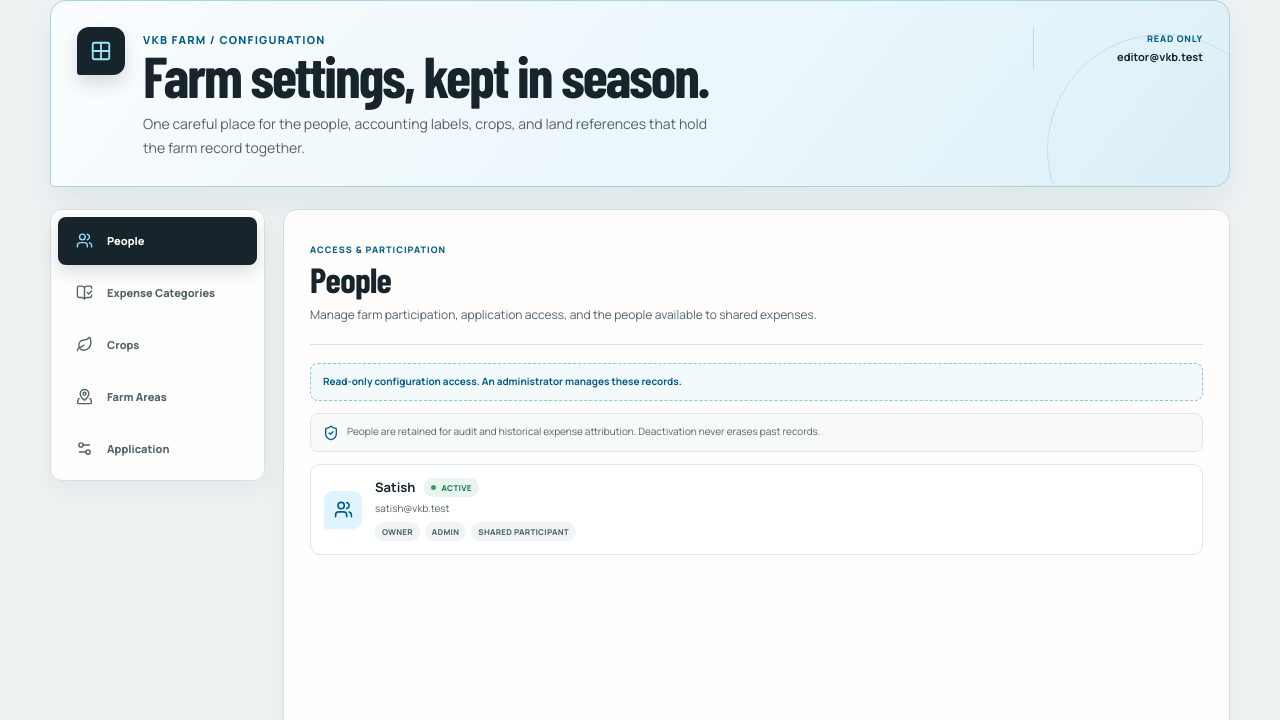
Test: SettingsPage › keeps the full settings view read-only for editor identities
Expected: the heading "Satish" is shown, left=375, top=478, right=416, bottom=496
Expected: the text "Read-only configuration access" is shown, left=323, top=374, right=682, bottom=388
Click the button "People": (158, 241) left=58, top=217, right=257, bottom=265
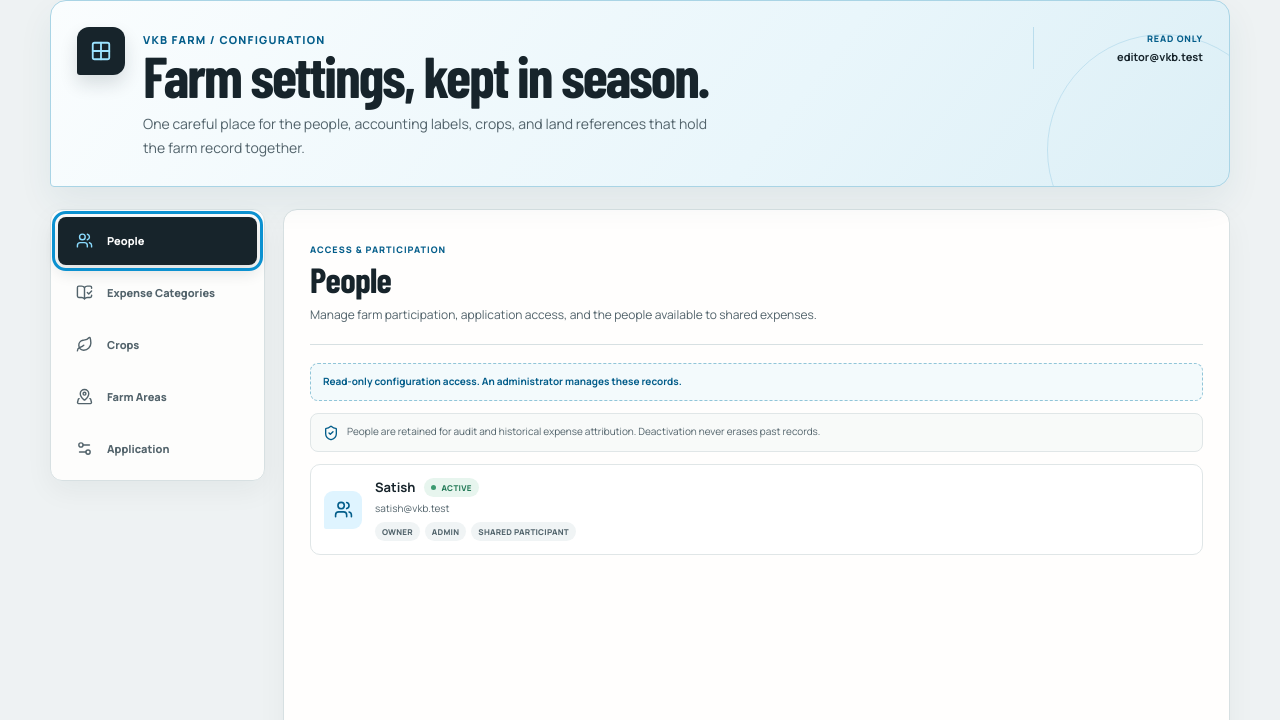
Expected: the heading "People" is shown, left=310, top=258, right=391, bottom=300
Click the button "Expense Categories": (158, 293) left=58, top=269, right=257, bottom=317
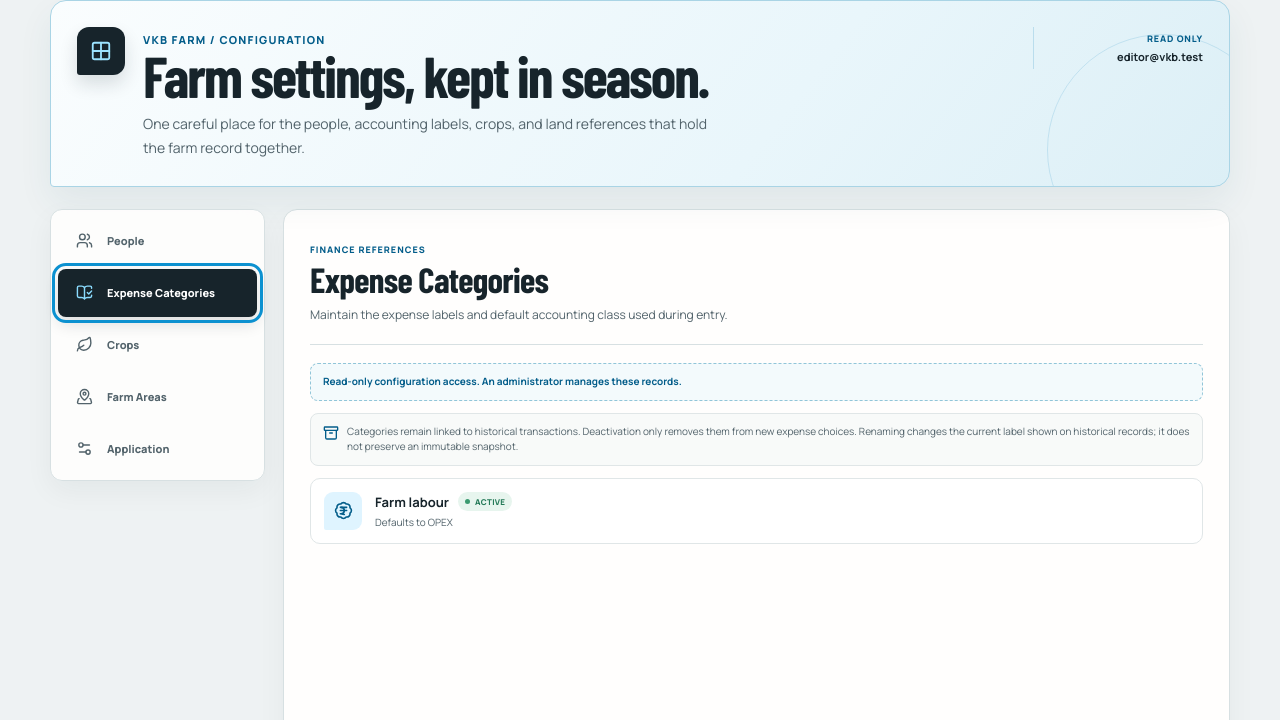
Result: the heading "Expense Categories" is shown at left=310, top=258, right=548, bottom=300
Click the button "Crops": (158, 345) left=58, top=321, right=257, bottom=369
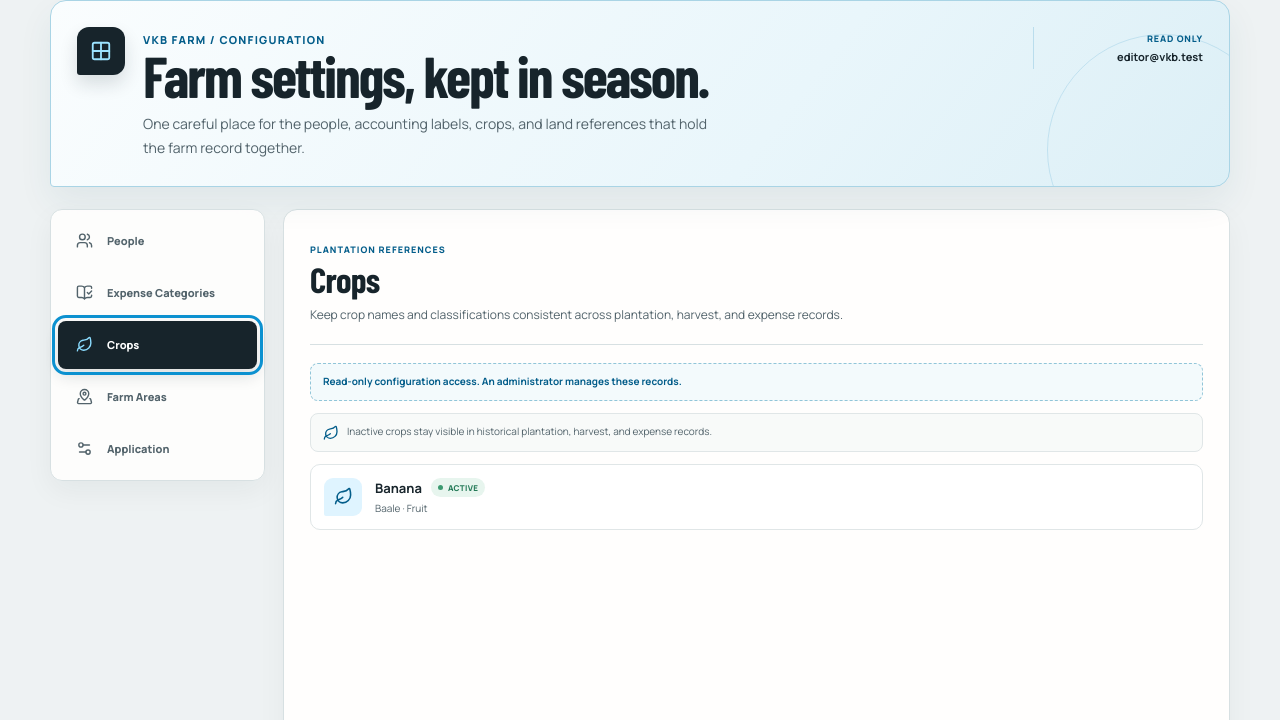
Result: the heading "Crops" is shown at left=310, top=258, right=379, bottom=300
Click the button "Farm Areas": (158, 397) left=58, top=373, right=257, bottom=421
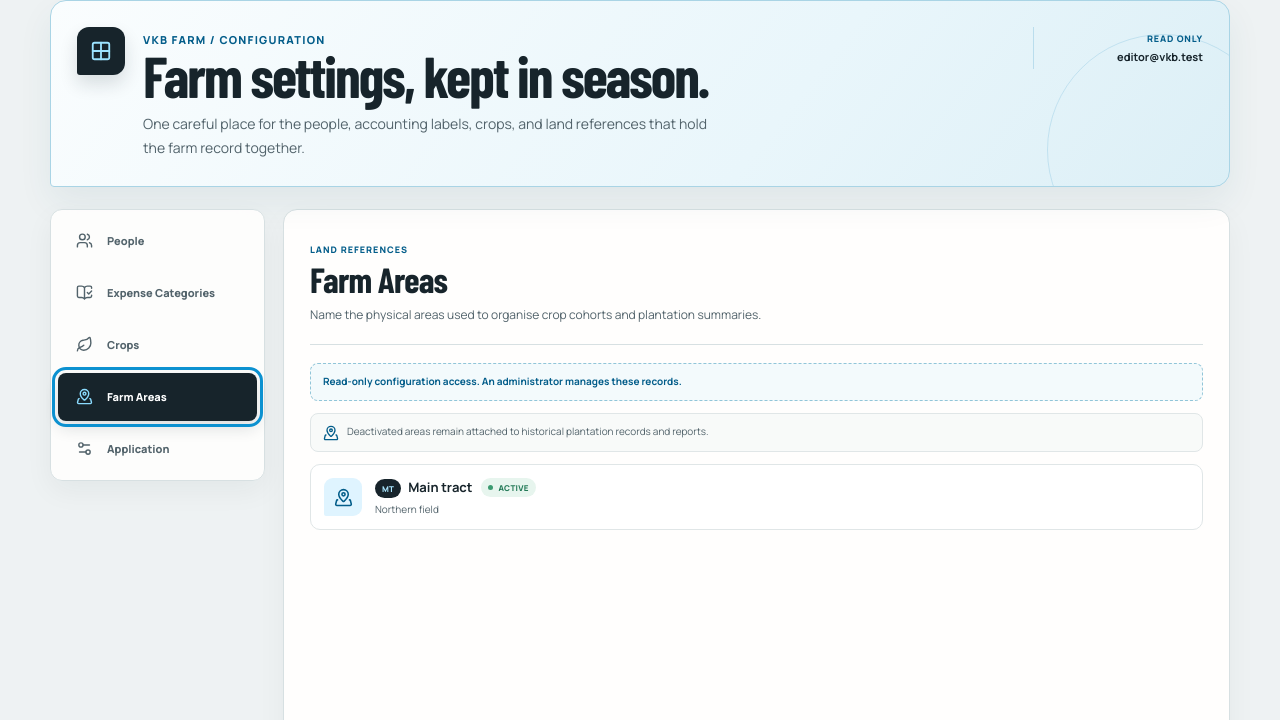
Result: the heading "Farm Areas" is shown at left=310, top=258, right=447, bottom=300
